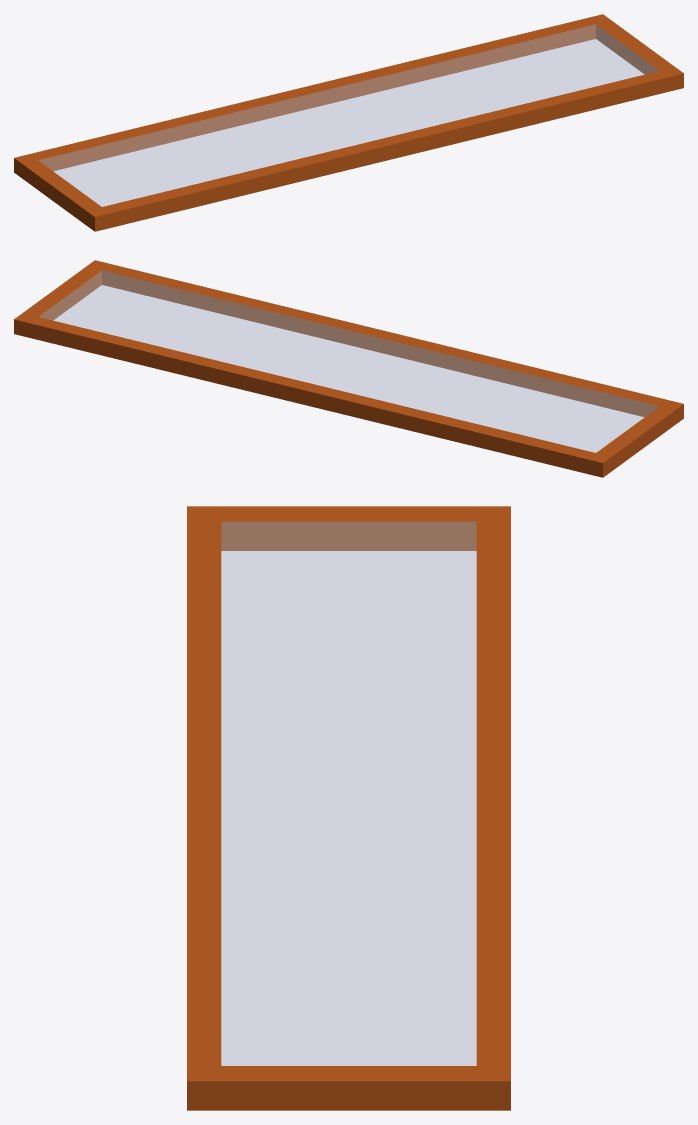
The model's file is long shelf with glass copper.glb.
3 renders of one model, top to bottom at view 1: azimuth 30°, elevation 25°; view 2: azimuth 150°, elevation 25°; view 3: azimuth 270°, elevation 25°, orthographic. The views are drawn at different scales.
Visible parts, largest first — view 1: long table glass copper; view 2: long table glass copper; view 3: long table glass copper.
Part boxes in pixels (<box>): long table glass copper: <box>14,14,683,231</box>; long table glass copper: <box>14,260,683,477</box>; long table glass copper: <box>187,506,510,1110</box>.
Bounding box in the file's own units: 4.2 × 0.1 × 1.
